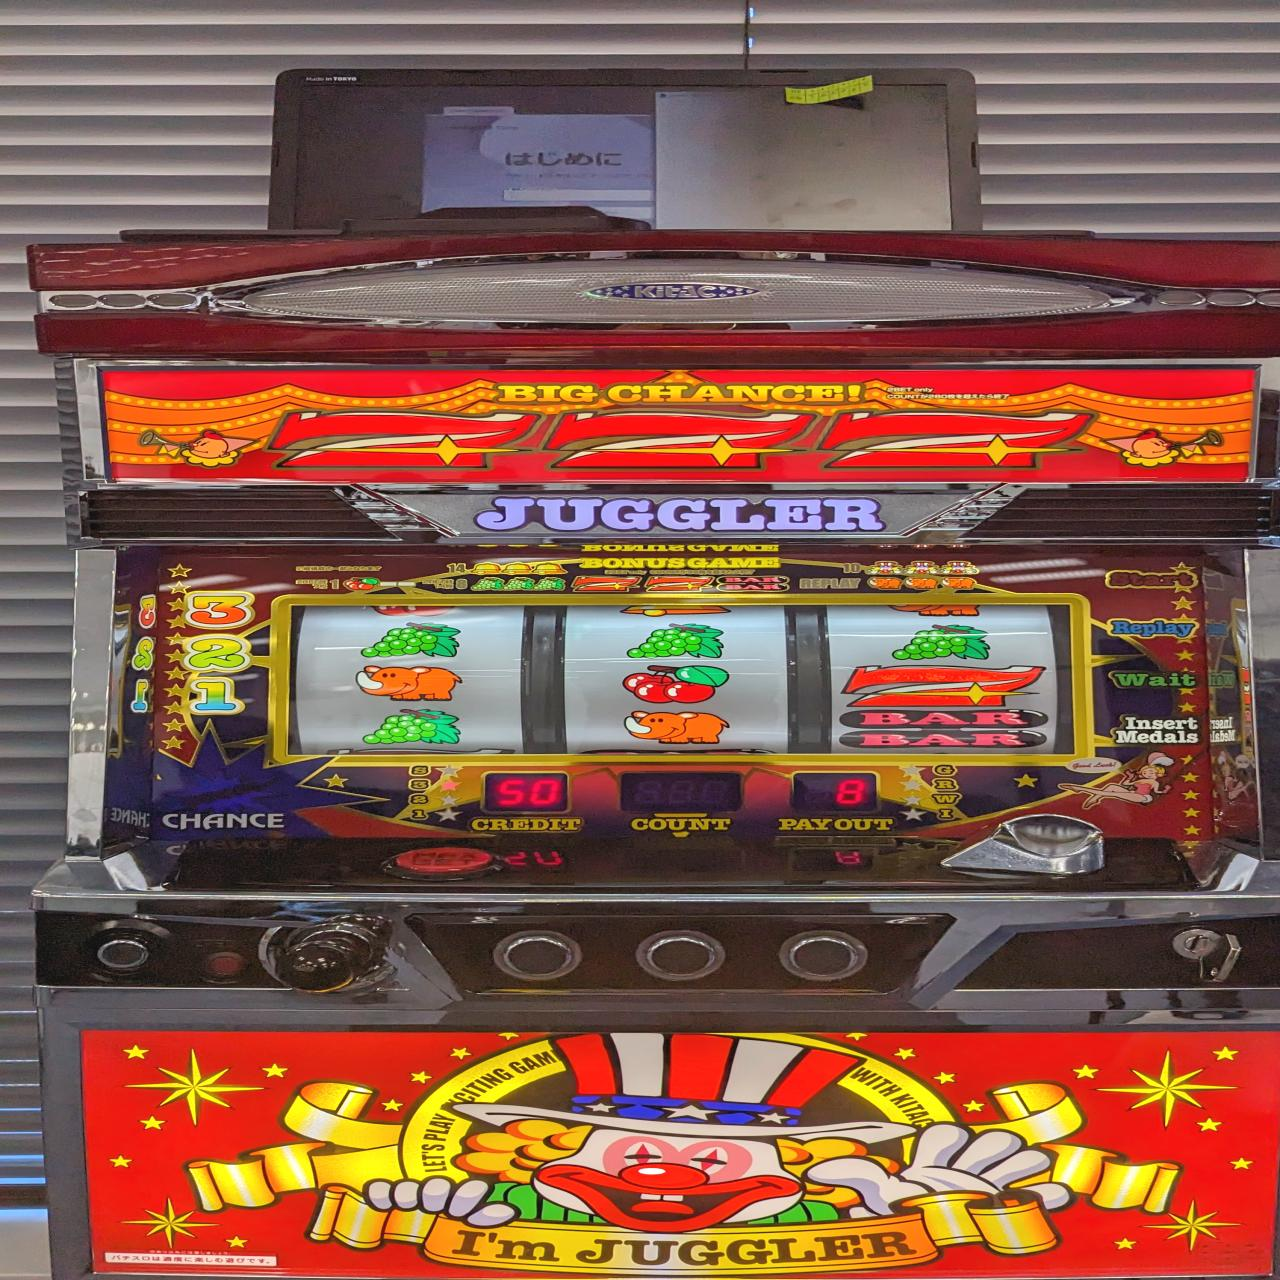7: (839, 663, 1050, 708)
8: (353, 665, 464, 701), (620, 710, 730, 744)
Display: (277, 597, 1085, 758)
bar: (837, 708, 1049, 749)
cherry: (621, 665, 730, 704)
grape: (890, 622, 992, 661), (361, 708, 465, 745), (625, 621, 726, 660), (361, 620, 461, 659)
